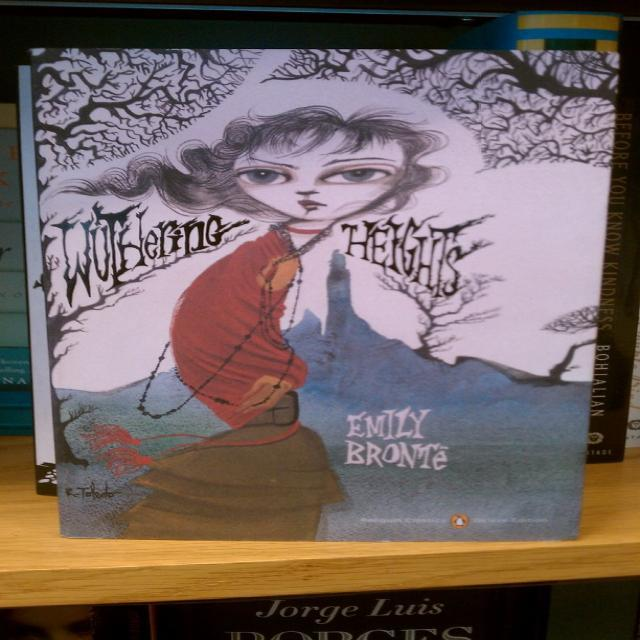book: (24, 48, 615, 540)
